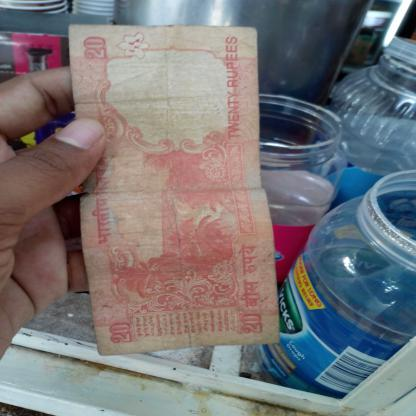Old20Back: (69, 24, 280, 356)
